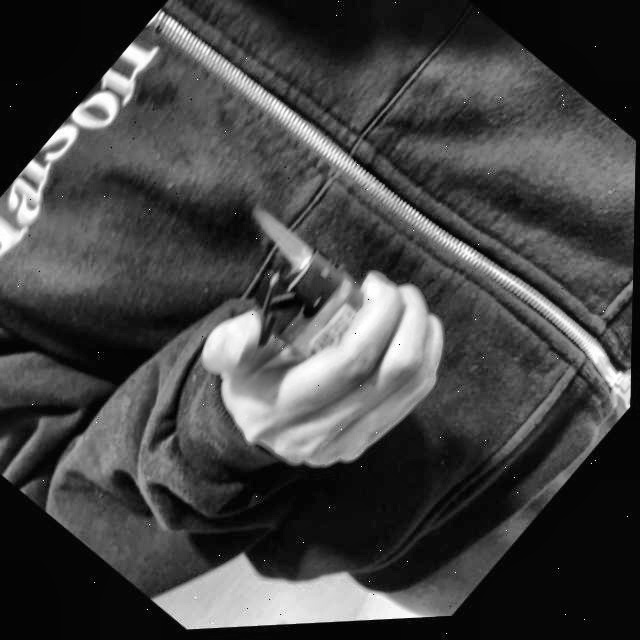Fire: (240, 201, 319, 277)
